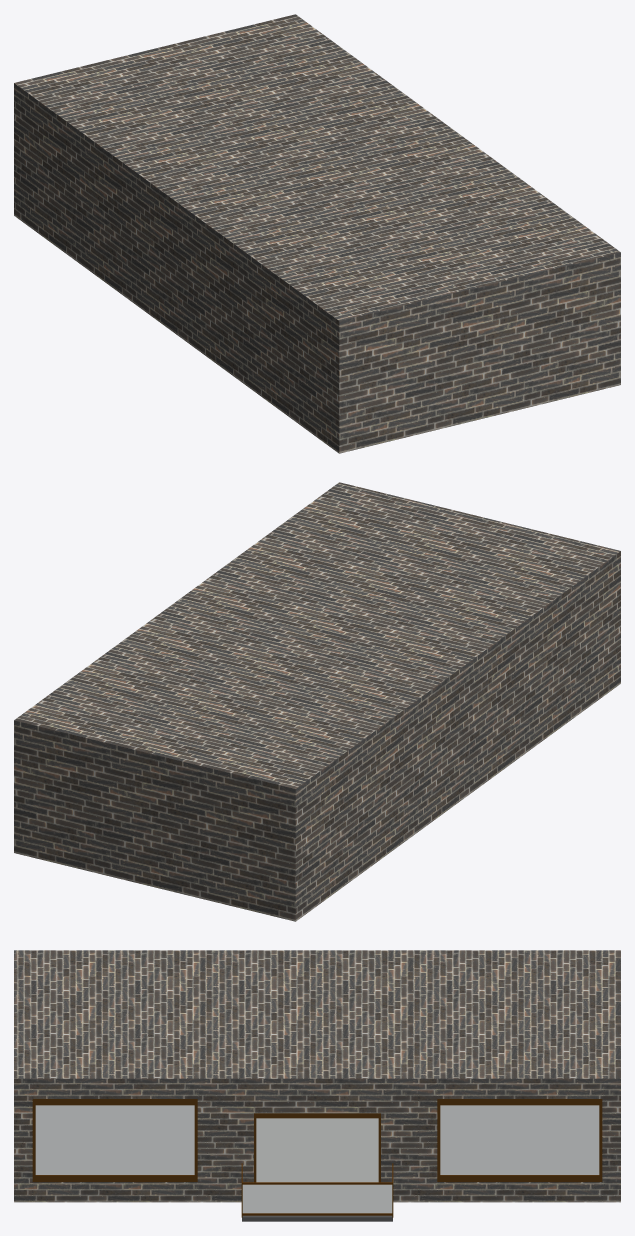
Rendered from Piso.fbx.
The picture shows the model from 3 angles, top to bottom: view 1: azimuth 30°, elevation 25°; view 2: azimuth 150°, elevation 25°; view 3: azimuth 270°, elevation 25°; orthographic projection. The views are drawn at different scales.
Visible parts, largest first — view 1: building_003.001; view 2: building_003.001; view 3: building_003.001.
Boxes of the visible parts, left/top/right/bottom form: building_003.001: left=14, top=14, right=620, bottom=453; building_003.001: left=14, top=482, right=620, bottom=921; building_003.001: left=14, top=950, right=620, bottom=1221.
Bounding box in the file's own units: 1152 × 450 × 2000.
Materials: 2 (2 with a texture image).
